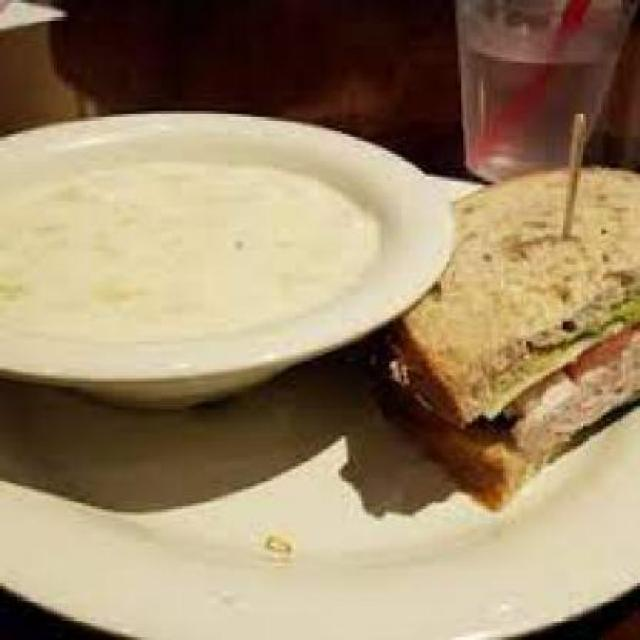club sandwich: (424, 136, 638, 484)
